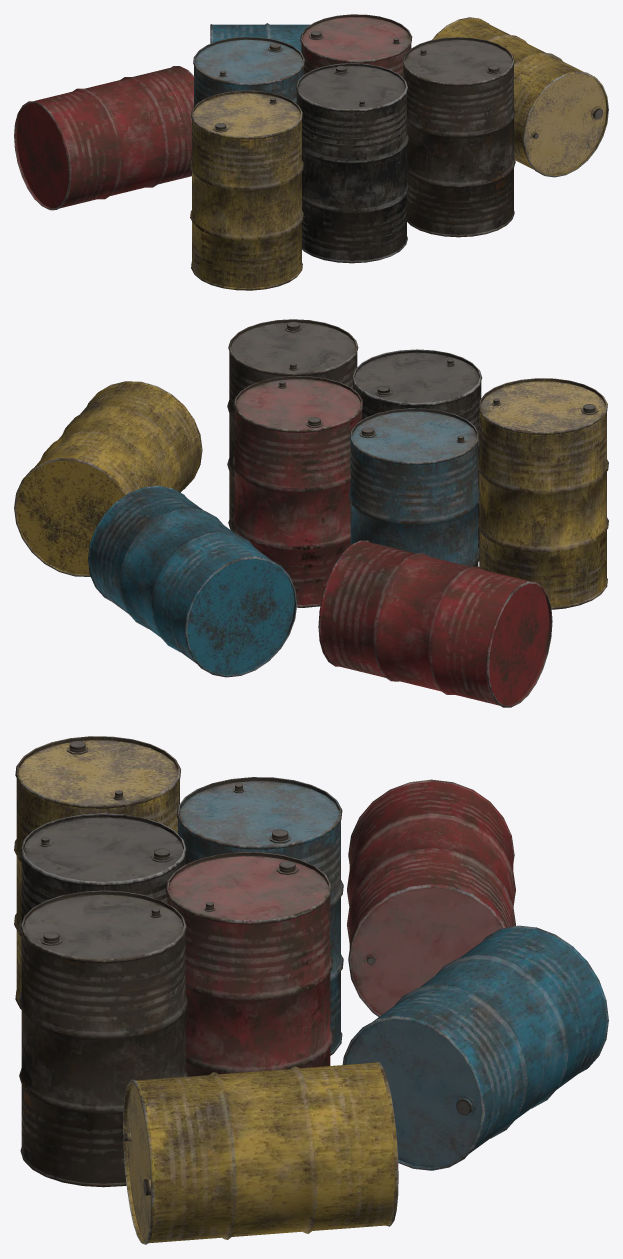
File: rusty-drum-cluster.glb
The picture shows the model from 3 angles, top to bottom: view 1: azimuth 30°, elevation 25°; view 2: azimuth 150°, elevation 25°; view 3: azimuth 270°, elevation 25°; orthographic projection. The views are drawn at different scales.
Parts seen in each view (by area): view 1: Barrel_Yellow_04_Barrel_Yellow_04_0_c, Barrel_Black_04_Barrel_Black_04_0_c, Barrel_Black_03_Barrel_Black_03_0_c, Barrel_Red_03_Barrel_Red_03_0_c, Barrel_Yellow_03_Barrel_Yellow_03_0_c, Barrel_Blue_04_Barrel_Blue_04_0_c, Barrel_Red_04_Barrel_Red_04_0_c, Barrel_Blue_03_Barrel_Blue_03_0_c; view 2: Barrel_Red_03_Barrel_Red_03_0_c, Barrel_Yellow_04_Barrel_Yellow_04_0_c, Barrel_Blue_03_Barrel_Blue_03_0_c, Barrel_Red_04_Barrel_Red_04_0_c, Barrel_Yellow_03_Barrel_Yellow_03_0_c, Barrel_Blue_04_Barrel_Blue_04_0_c, Barrel_Black_04_Barrel_Black_04_0_c, Barrel_Black_03_Barrel_Black_03_0_c; view 3: Barrel_Yellow_03_Barrel_Yellow_03_0_c, Barrel_Black_04_Barrel_Black_04_0_c, Barrel_Blue_03_Barrel_Blue_03_0_c, Barrel_Red_04_Barrel_Red_04_0_c, Barrel_Red_03_Barrel_Red_03_0_c, Barrel_Blue_04_Barrel_Blue_04_0_c, Barrel_Yellow_04_Barrel_Yellow_04_0_c, Barrel_Black_03_Barrel_Black_03_0_c.
Boxes of the visible parts, x1,y1,x2,y2 form: Barrel_Yellow_04_Barrel_Yellow_04_0_c: (190,90,303,290); Barrel_Black_04_Barrel_Black_04_0_c: (402,37,515,237); Barrel_Black_03_Barrel_Black_03_0_c: (295,63,408,263); Barrel_Red_03_Barrel_Red_03_0_c: (14,66,193,210); Barrel_Yellow_03_Barrel_Yellow_03_0_c: (432,17,608,177); Barrel_Blue_04_Barrel_Blue_04_0_c: (192,37,304,108); Barrel_Red_04_Barrel_Red_04_0_c: (300,14,412,77); Barrel_Blue_03_Barrel_Blue_03_0_c: (210,23,310,51); Barrel_Red_03_Barrel_Red_03_0_c: (318,540,552,707); Barrel_Yellow_04_Barrel_Yellow_04_0_c: (478,378,608,609); Barrel_Blue_03_Barrel_Blue_03_0_c: (88,485,297,677); Barrel_Red_04_Barrel_Red_04_0_c: (232,376,363,607); Barrel_Yellow_03_Barrel_Yellow_03_0_c: (14,381,202,576); Barrel_Blue_04_Barrel_Blue_04_0_c: (348,408,480,566); Barrel_Black_04_Barrel_Black_04_0_c: (227,319,358,532); Barrel_Black_03_Barrel_Black_03_0_c: (352,349,482,561); Barrel_Yellow_03_Barrel_Yellow_03_0_c: (123,1061,398,1244); Barrel_Black_04_Barrel_Black_04_0_c: (19,890,188,1187); Barrel_Blue_03_Barrel_Blue_03_0_c: (342,925,608,1170); Barrel_Red_04_Barrel_Red_04_0_c: (166,852,332,1076); Barrel_Red_03_Barrel_Red_03_0_c: (347,779,515,1016); Barrel_Blue_04_Barrel_Blue_04_0_c: (176,777,343,1055); Barrel_Yellow_04_Barrel_Yellow_04_0_c: (14,736,181,1009); Barrel_Black_03_Barrel_Black_03_0_c: (19,813,186,999).
Bounding box in the file's own units: 7.54 × 2.36 × 5.54.
Materials: 8 (8 with a texture image).
